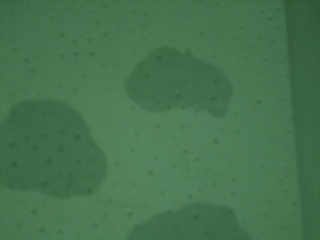Water_detected: (12, 103, 99, 189), (129, 50, 205, 101), (131, 204, 210, 240)
